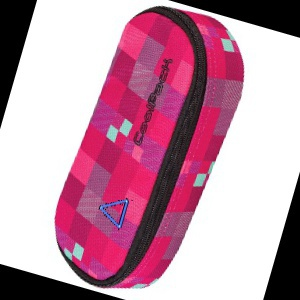triangle: (98, 197, 131, 230)
